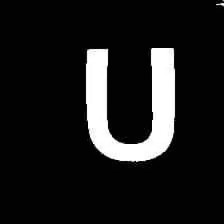LTR_U: (77, 38, 182, 164)
